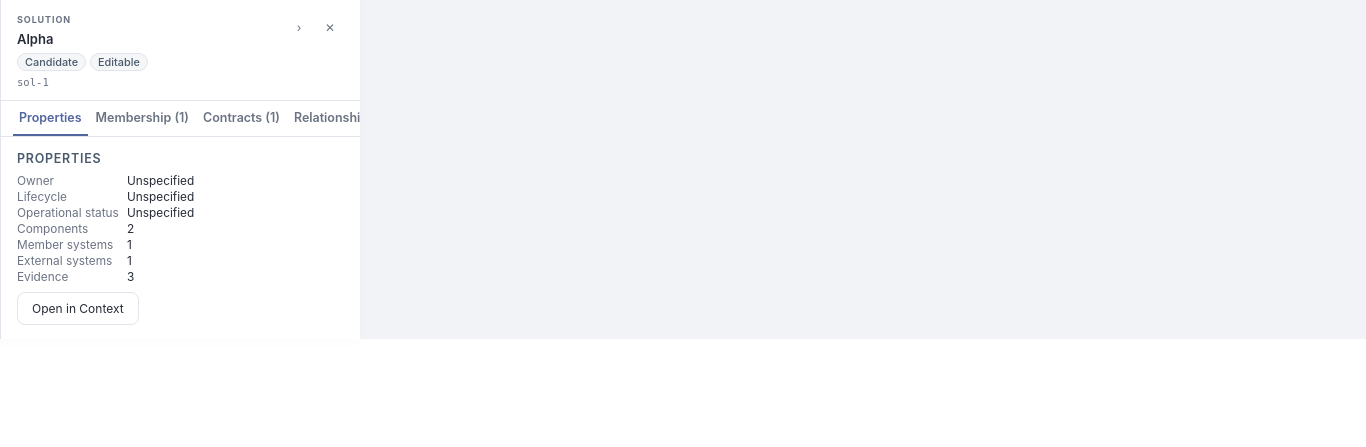
SolutionLandscapeInspector › summarises Contract roles and associations without contract internals
The width and height of the screenshot is (1366, 447).
Click the button "Contracts (1)" at (241, 118), box [197,101,286,136]
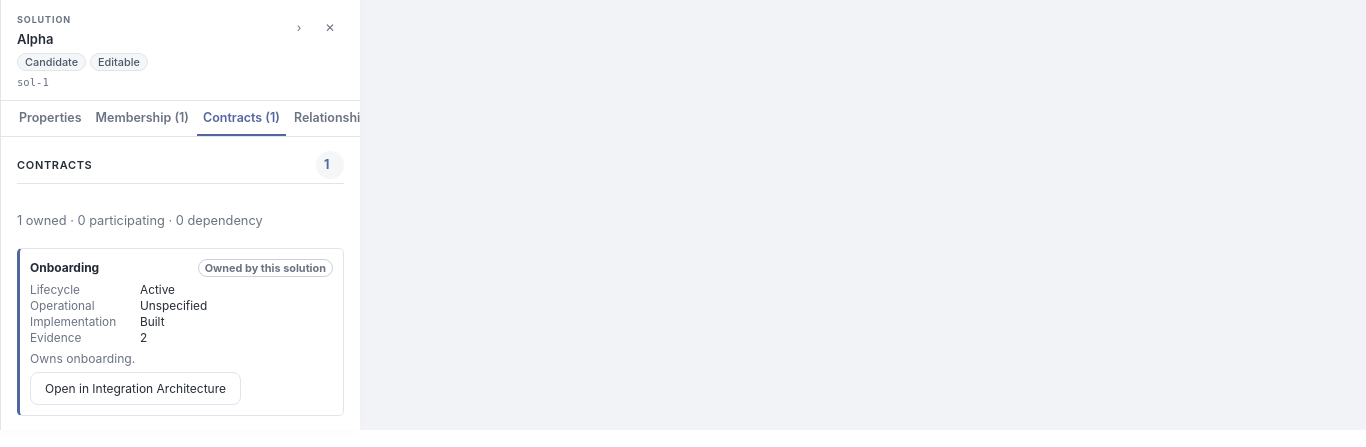
expect the text "1 owned · 0 participating · 0 dependency" is shown: met, box [17,213,263,228]
expect the text "Owned by this solution" is shown: met, box [198,259,333,277]
expect the text "Onboarding" is shown: met, box [30,260,99,275]
